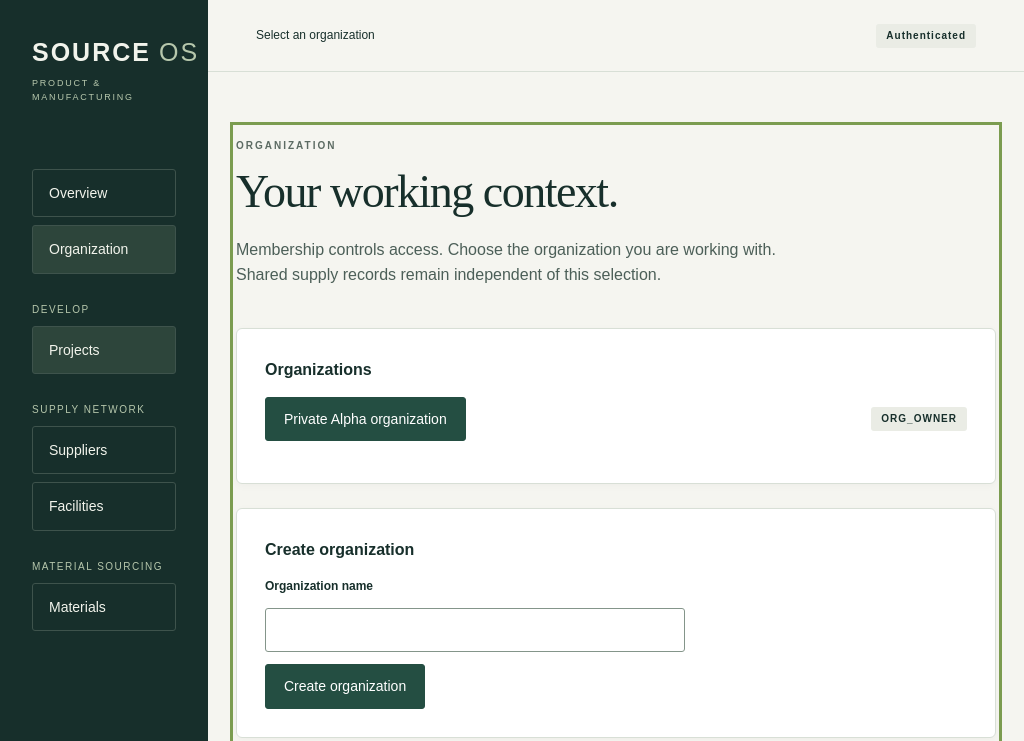
Test: late mutation completion cannot select an organization for the next actor
Expected: the heading "Your working context." is shown, [236, 166, 618, 217]
Type "Draft" into the field labelled "Organization name". click: (475, 630)
box: [265, 608, 685, 652]
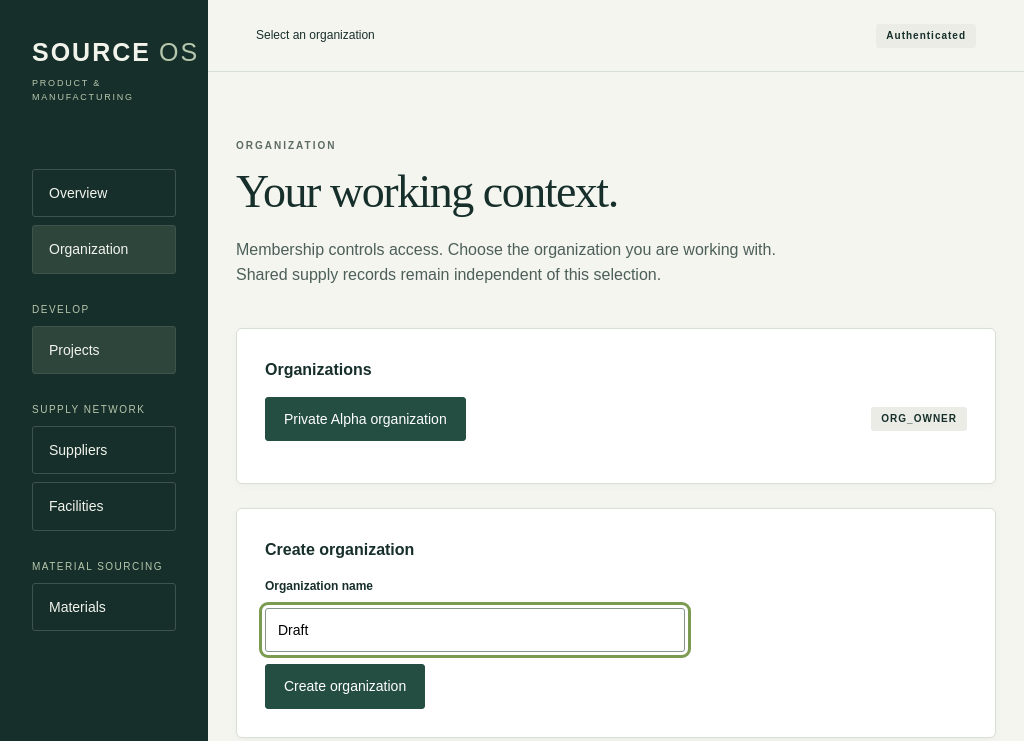
Click the button "Create organization". click: (345, 686)
box: [265, 664, 425, 709]
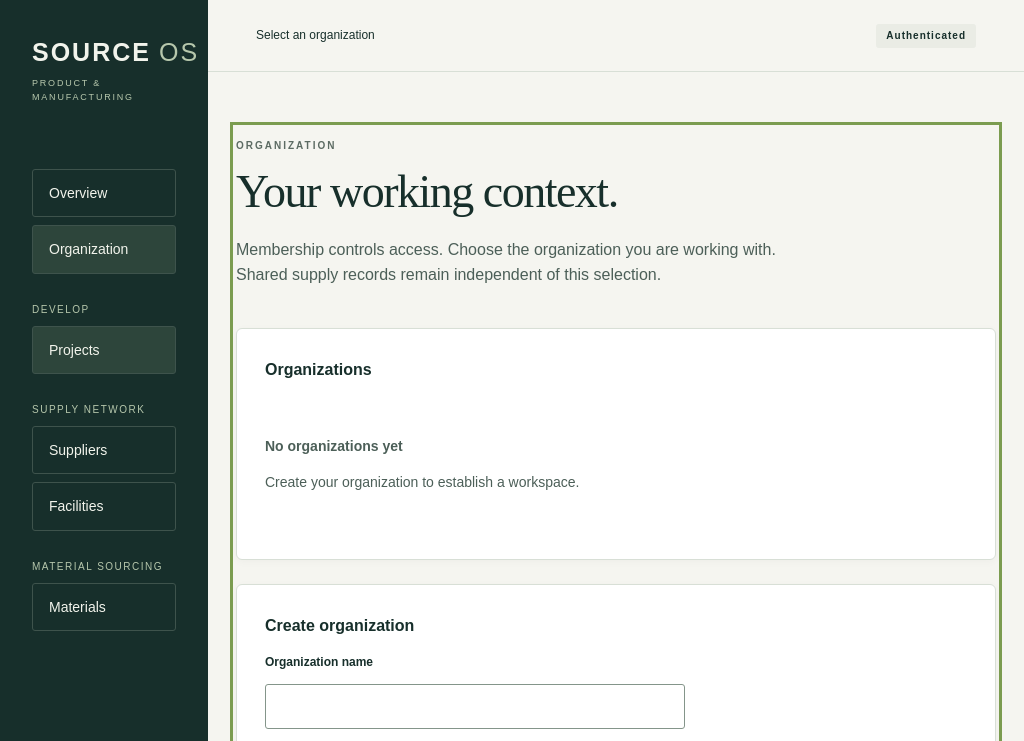
Expected: the text "Select an organization" is shown, [256, 26, 375, 45]
Result: the heading "No organizations yet" is shown at [265, 438, 403, 454]
